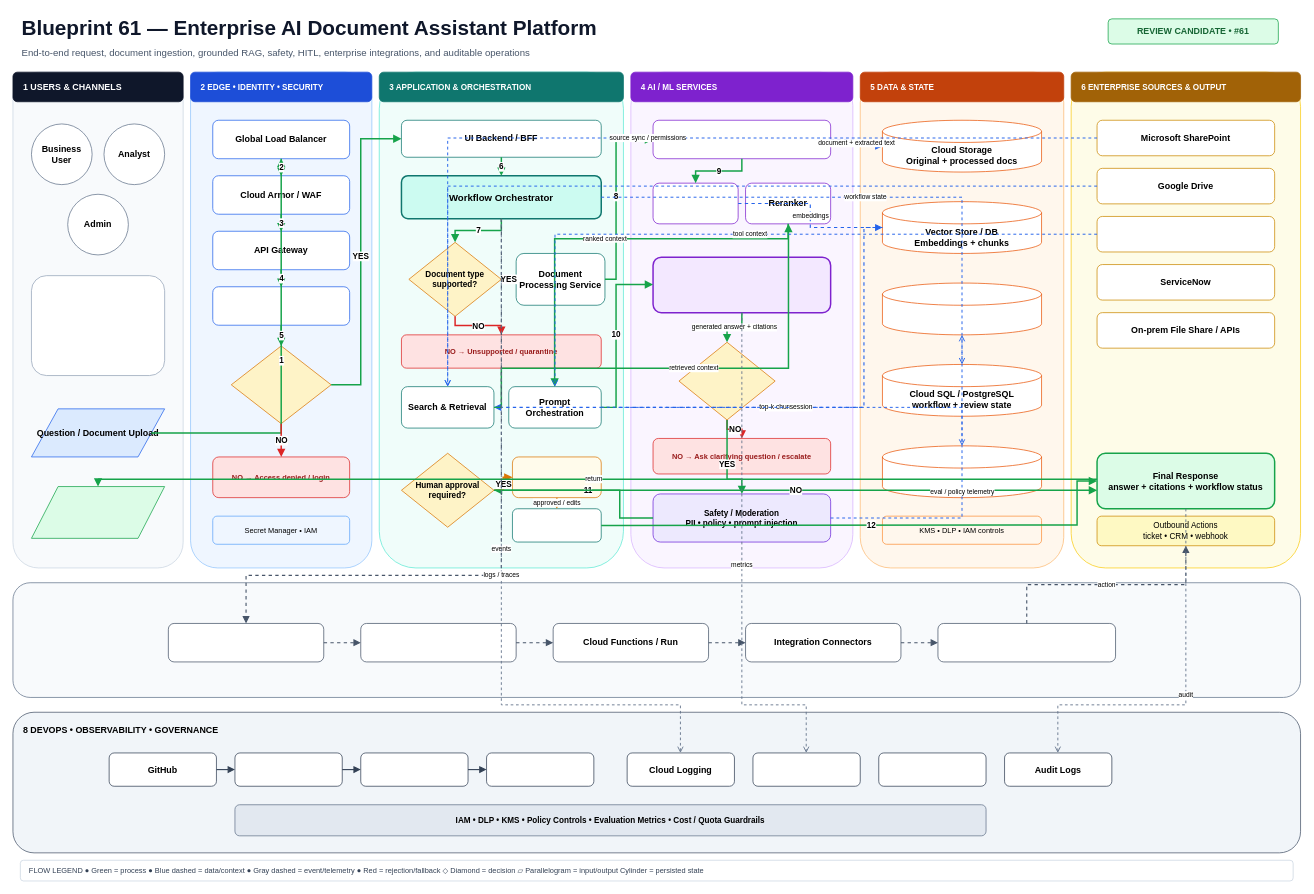
Image size: 1314x894. Some labels were removed from this diagram. Here are the shapes that lost their labels. From the top down, the box of each, then its label:
(652, 120, 831, 159): Document AI / OCR
(652, 182, 738, 224): Embedding Model
(1096, 216, 1275, 252): Salesforce
(652, 256, 831, 313): Vertex AI • Gemini Grounded Generation + Tools
(31, 275, 165, 376): Web App Mobile App Microsoft Teams Slack API Client
(212, 286, 350, 325): Identity Platform / SSO
(882, 282, 1042, 335): BigQuery Metadata • analytics • evals
(231, 345, 331, 424): Authenticated & Authorized?
(678, 342, 775, 420): Grounded answer found?
(512, 456, 601, 498): Human Review Task
(882, 445, 1042, 498): Firestore session / conversation state
(31, 486, 165, 538): Grounded Answer + citations + status
(512, 508, 601, 542): Notification Service
(168, 623, 324, 662): Pub/Sub
(360, 623, 516, 662): Eventarc
(12, 582, 1301, 697): 7 EVENTING & INTEGRATION
(937, 623, 1116, 662): Webhooks / Outbound API
(234, 752, 342, 786): Cloud Build
(360, 752, 468, 786): Artifact Registry
(486, 752, 594, 786): Terraform / Deploy
(752, 752, 860, 786): Cloud Monitoring
(878, 752, 986, 786): Error Reporting
